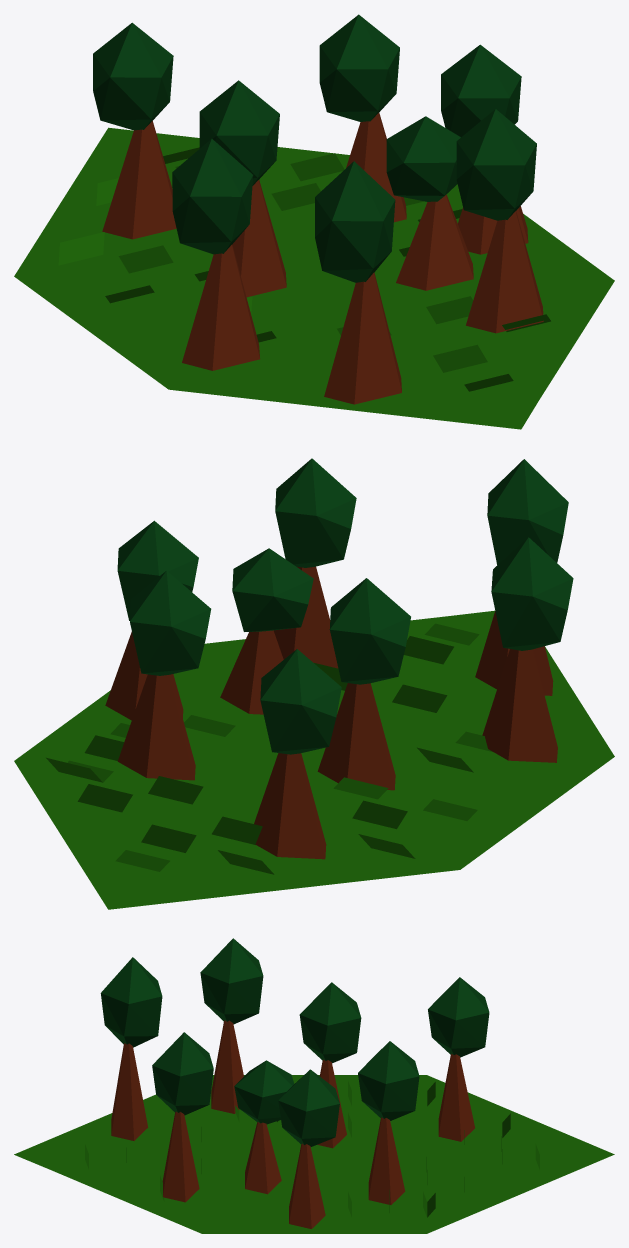
File: Lumber.fbx
3 renders of one model, top to bottom at view 1: azimuth 30°, elevation 25°; view 2: azimuth 150°, elevation 25°; view 3: azimuth 270°, elevation 25°, orthographic. The views are drawn at different scales.
Visible parts, largest first — view 1: Plane, Icosphere.001, Icosphere.005, Icosphere.003, Icosphere.004, Icosphere.006, Icosphere, Icosphere.002, Icosphere.007; view 2: Plane, Icosphere.005, Icosphere, Icosphere.004, Icosphere.002, Icosphere.003, Icosphere.006, Icosphere.001, Icosphere.007; view 3: Plane, Icosphere.001, Icosphere.005, Icosphere.003, Icosphere.004, Icosphere, Icosphere.007, Icosphere.002, Icosphere.006.
Part boxes in pixels (x1,y1,x2,y2): Plane: (14,127,614,429); Icosphere.001: (315,161,401,404); Icosphere.005: (172,138,259,370); Icosphere.003: (456,109,543,333); Icosphere.004: (93,22,176,239); Icosphere.006: (386,116,473,290); Icosphere: (319,14,406,222); Icosphere.002: (199,80,286,297); Icosphere.007: (441,44,528,254); Plane: (14,610,614,909); Icosphere.005: (482,537,573,762); Icosphere: (117,570,211,780); Icosphere.004: (254,649,341,859); Icosphere.002: (317,578,410,790); Icosphere.003: (273,458,356,668); Icosphere.006: (220,548,313,714); Icosphere.001: (475,459,568,695); Icosphere.007: (105,520,198,720); Plane: (14,1075,614,1233); Icosphere.001: (100,957,162,1140); Icosphere.005: (200,938,263,1113); Icosphere.003: (152,1032,213,1202); Icosphere.004: (428,977,489,1141); Icosphere: (358,1041,419,1204); Icosphere.007: (278,1069,339,1228); Icosphere.002: (299,982,361,1148); Icosphere.006: (234,1060,294,1194).
Bounding box in the file's own units: 1.25 × 0.6143 × 2.
